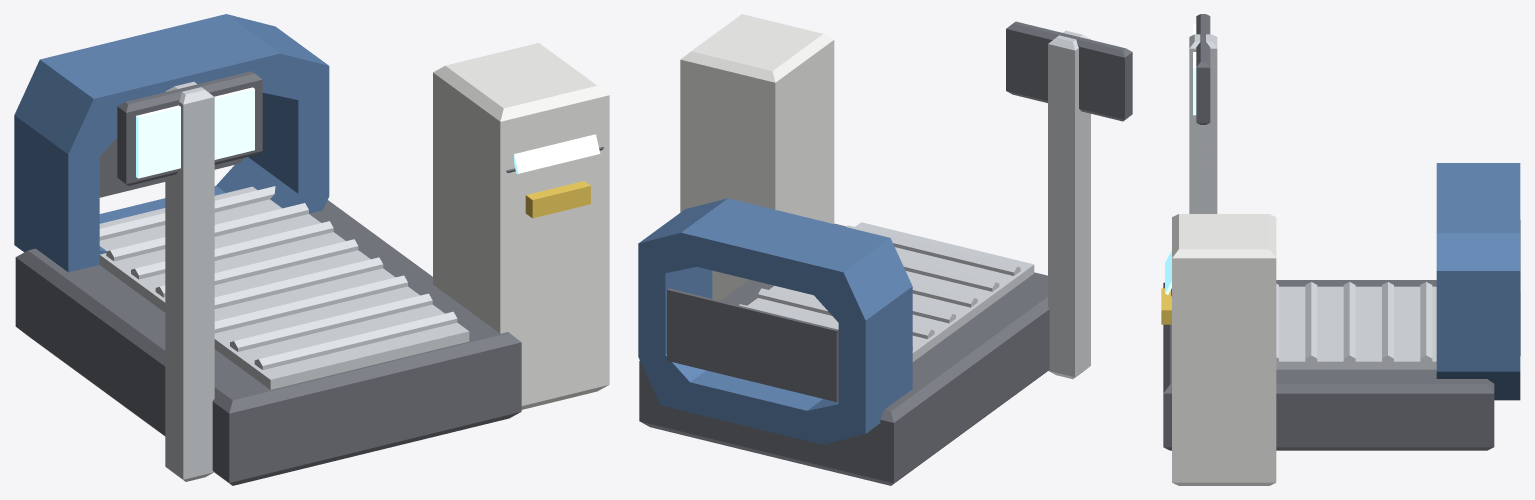
File: airport-terminal-and-ground-operations-bag-drop-unit-b308cf76__26031.glb
3 views of the same model, side by side, from view 1: azimuth 30°, elevation 25°; view 2: azimuth 150°, elevation 25°; view 3: azimuth 270°, elevation 25° (orthographic). The views are drawn at different scales.
Visible parts, largest first — view 1: bag-drop-unit; view 2: bag-drop-unit; view 3: bag-drop-unit.
Boxes of the visible parts, x1,y1,x2,y2 form: bag-drop-unit: (14, 14, 609, 485); bag-drop-unit: (638, 14, 1132, 485); bag-drop-unit: (1161, 14, 1520, 485).
Size of the model in its own units: 2.4 by 1.9 by 2.06.
